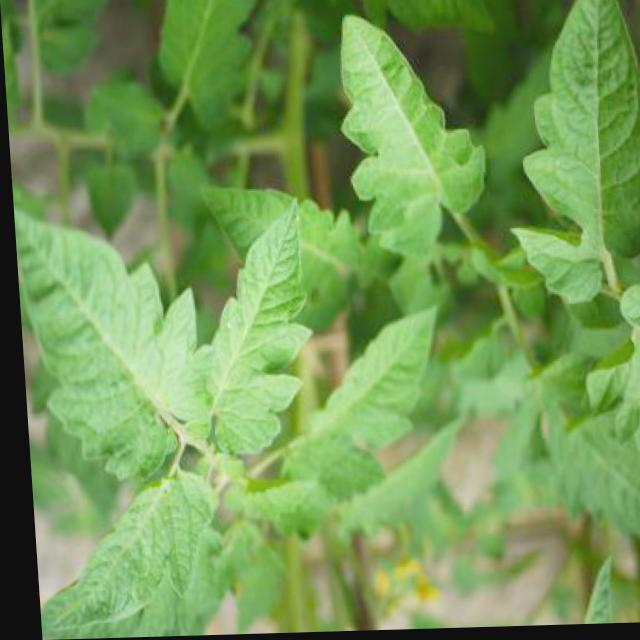Tomato bacterial spot leaf: (10, 197, 198, 493), (479, 0, 639, 346), (165, 185, 332, 469), (326, 4, 486, 284), (264, 302, 448, 506), (32, 450, 214, 639), (322, 402, 468, 533), (534, 390, 639, 565)
